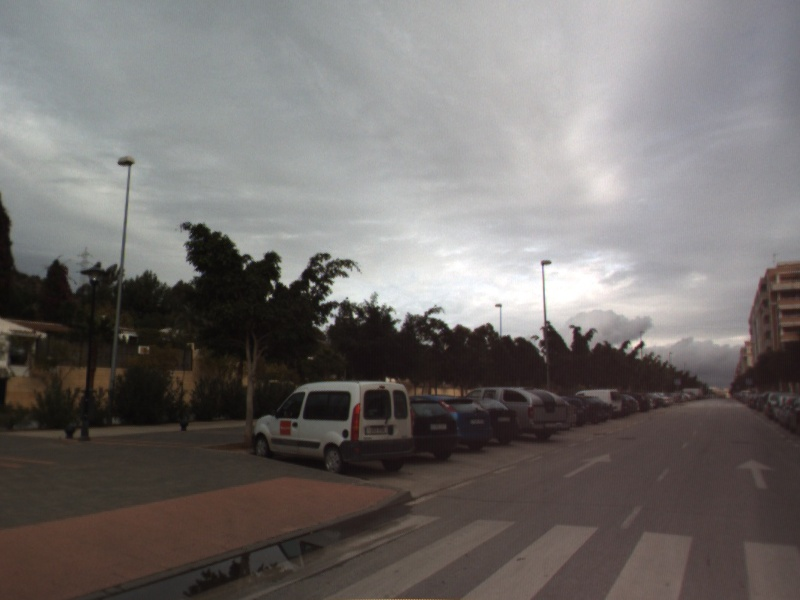STRAIGHT: (561, 451, 614, 480), (733, 456, 776, 491)
